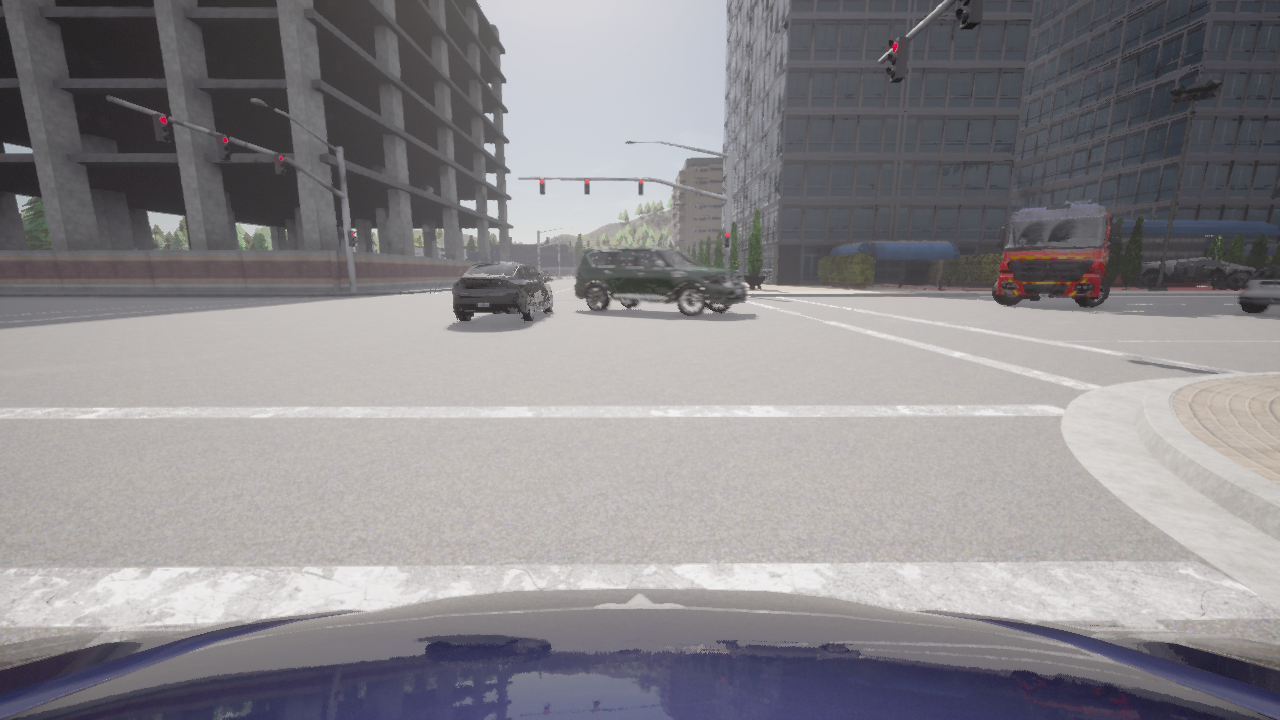cyclist: (0, 588, 1279, 719), (992, 199, 1120, 306), (574, 246, 746, 316), (454, 261, 553, 321), (1133, 258, 1258, 289), (1237, 262, 1279, 313), (1200, 259, 1219, 265), (1177, 259, 1197, 264), (551, 271, 558, 276), (543, 271, 549, 276), (541, 271, 545, 276), (1223, 263, 1233, 265)
